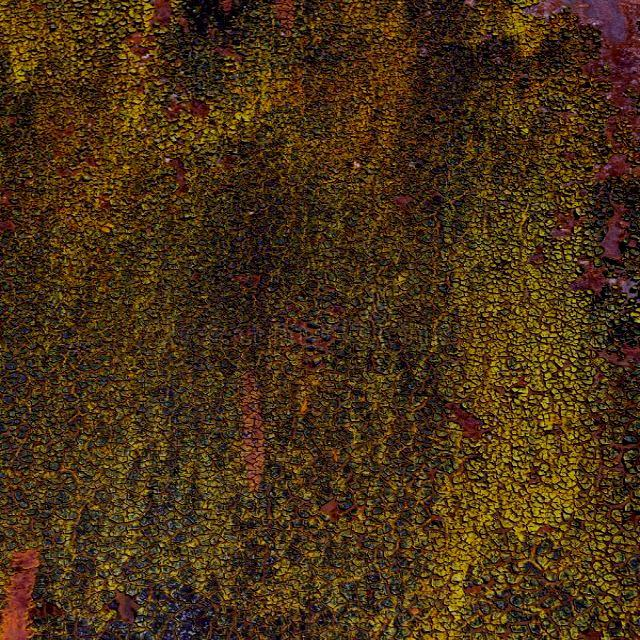wall_corrosion: (4, 0, 640, 640)
